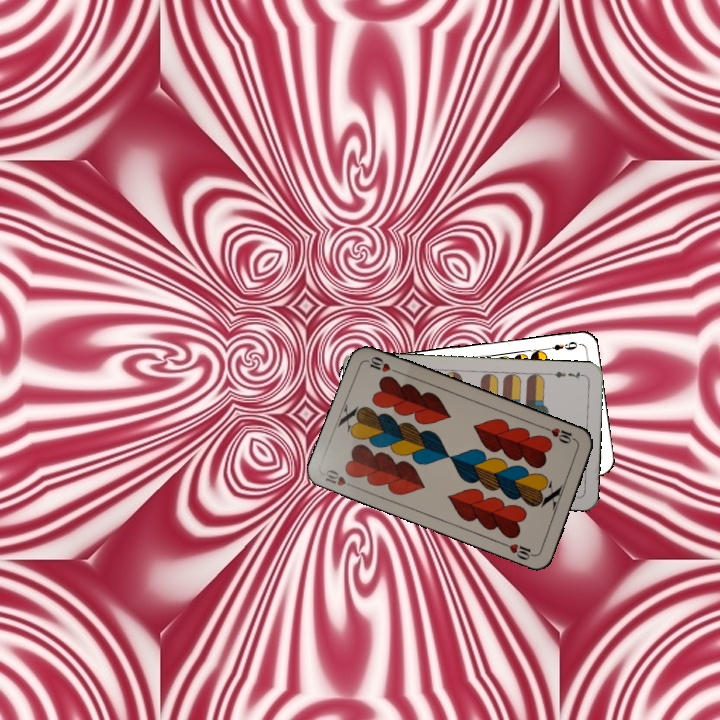E7: (546, 367, 587, 381)
E9: (541, 337, 581, 353)
H10: (320, 465, 359, 491), (541, 423, 580, 446)
